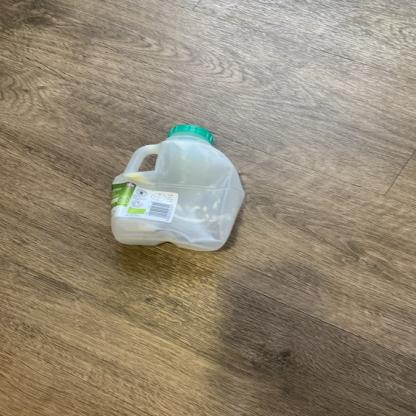trash: (105, 124, 248, 256)
